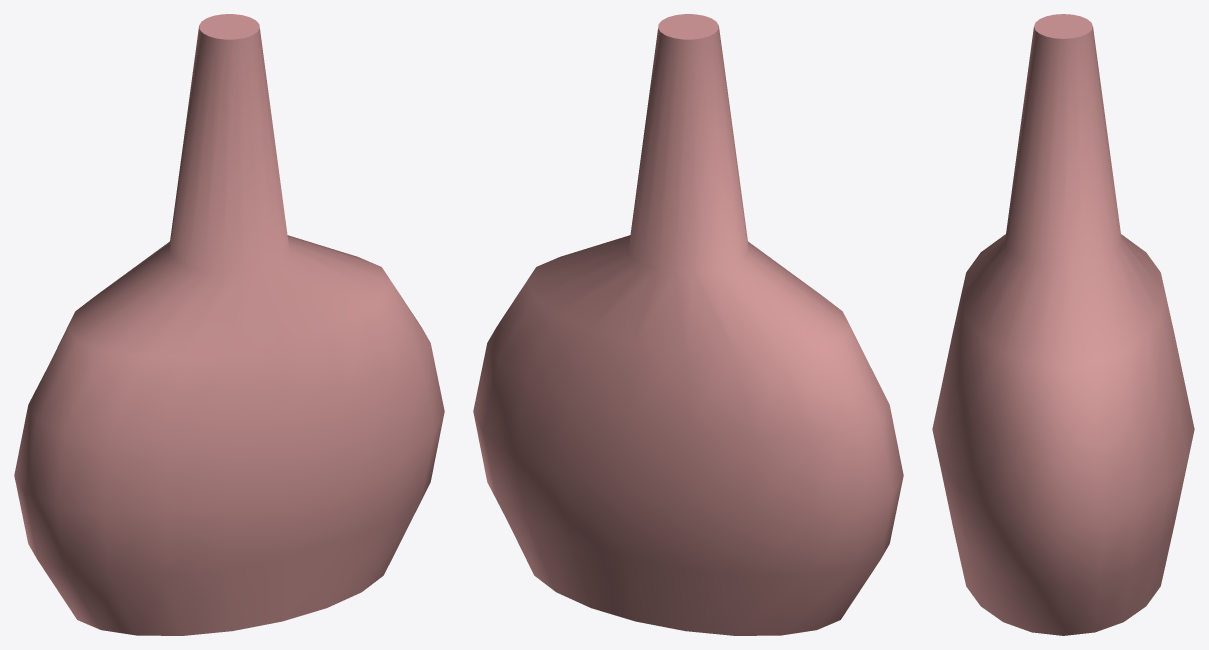
The model's file is BAR_LiqourBottle07_Body.fbx.
The picture shows the model from 3 angles, left to right: view 1: azimuth 30°, elevation 25°; view 2: azimuth 150°, elevation 25°; view 3: azimuth 270°, elevation 25°; orthographic projection. The views are drawn at different scales.
Visible parts, largest first — view 1: Bottle07_Body; view 2: Bottle07_Body; view 3: Bottle07_Body.
Part boxes in pixels (<box>): Bottle07_Body: <box>14,14,444,635</box>; Bottle07_Body: <box>473,14,903,635</box>; Bottle07_Body: <box>932,14,1194,635</box>.
Size of the model in its own units: 16.72 by 21.75 by 9.62.
